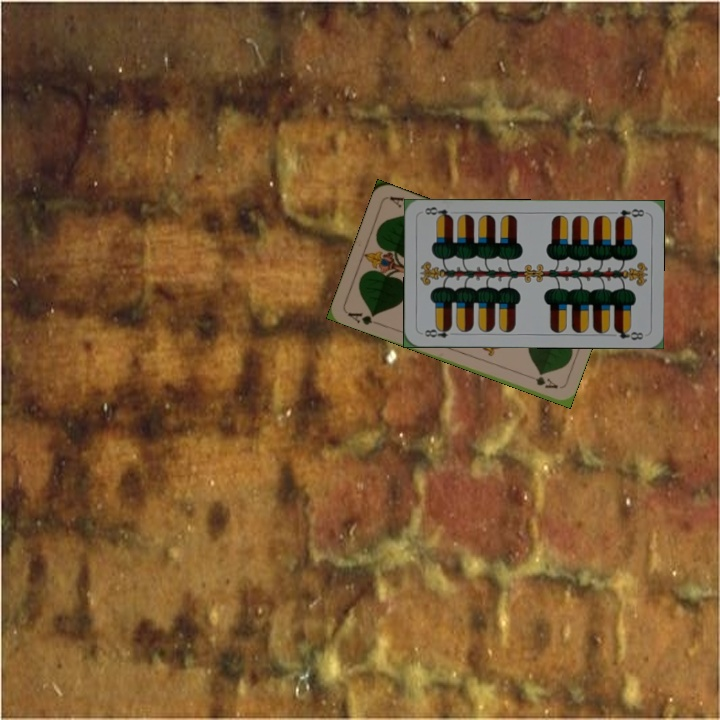E8: (418, 323, 459, 340), (611, 205, 646, 223)
GA: (343, 308, 383, 328)
